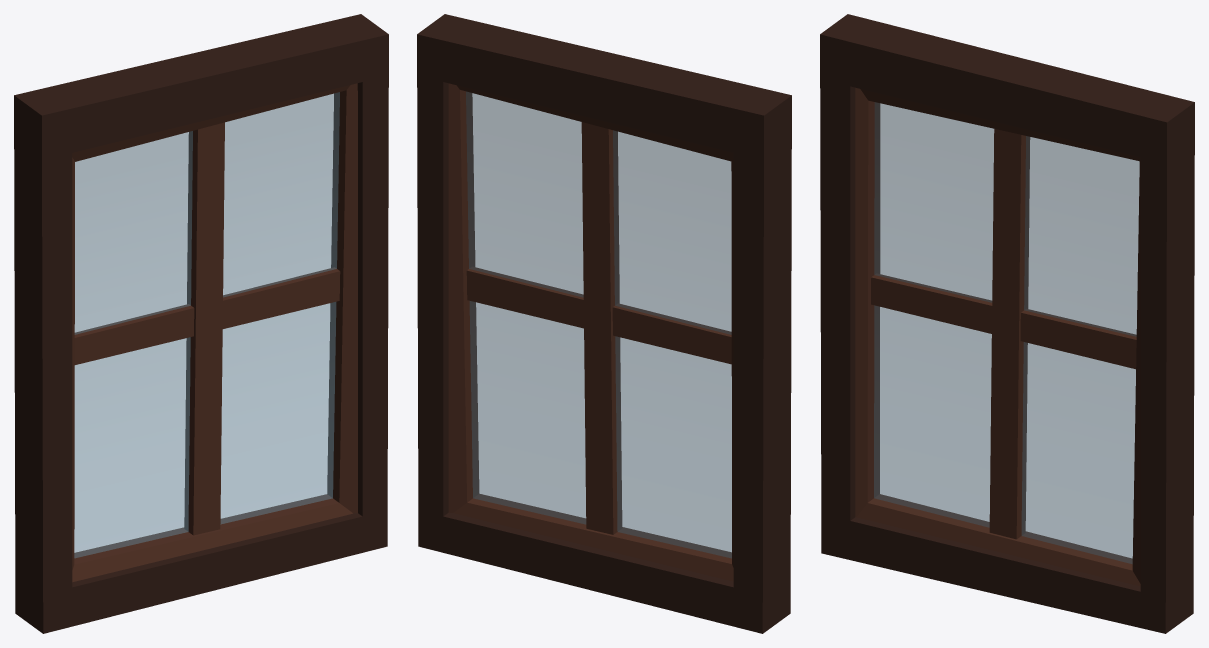
Rendered from Window 2x2 Closed.glb.
The picture shows the model from 3 angles, left to right: view 1: azimuth 30°, elevation 25°; view 2: azimuth 150°, elevation 25°; view 3: azimuth 330°, elevation 25°; orthographic projection.
Parts seen in each view (by area): view 1: Window 2x2 Closed; view 2: Window 2x2 Closed; view 3: Window 2x2 Closed.
Part boxes in pixels (x1=…): Window 2x2 Closed: x1=14, y1=14, x2=388, y2=633; Window 2x2 Closed: x1=417, y1=14, x2=791, y2=633; Window 2x2 Closed: x1=820, y1=14, x2=1194, y2=633.
Size of the model in its own units: 1.15 by 1.65 by 0.16.
Materials: 2 (2 with a texture image).
